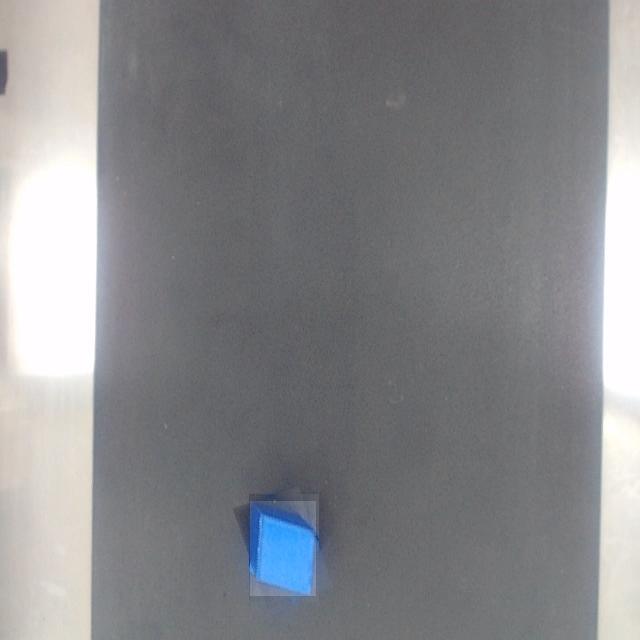Azul: (250, 501, 316, 596)
